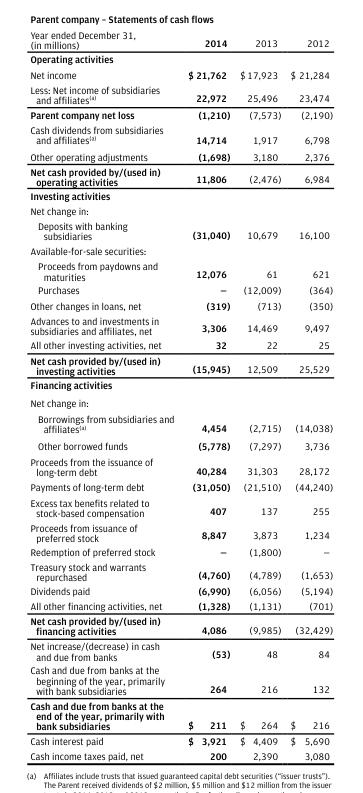table: (29, 28, 332, 761)
table column: (29, 28, 180, 761), (180, 28, 234, 761), (234, 28, 285, 761), (285, 28, 332, 761)
table column header: (29, 28, 332, 51)
table projected row header: (29, 393, 332, 410), (29, 377, 332, 393), (29, 51, 332, 66), (29, 202, 332, 217), (29, 243, 332, 258), (29, 188, 332, 202)
table row: (29, 662, 332, 697), (29, 697, 332, 732), (29, 121, 332, 147), (29, 217, 332, 243), (29, 410, 332, 436), (29, 453, 332, 479), (29, 81, 332, 106), (29, 163, 332, 188), (29, 312, 332, 337), (29, 352, 332, 377), (29, 494, 332, 519), (29, 519, 332, 544), (29, 558, 332, 583), (29, 613, 332, 638), (29, 258, 332, 282), (29, 638, 332, 662), (29, 28, 332, 51), (29, 393, 332, 410), (29, 436, 332, 453), (29, 147, 332, 163), (29, 377, 332, 393), (29, 597, 332, 613), (29, 732, 332, 748), (29, 51, 332, 66), (29, 66, 332, 81), (29, 106, 332, 121), (29, 202, 332, 217), (29, 243, 332, 258), (29, 282, 332, 297), (29, 297, 332, 312), (29, 337, 332, 352), (29, 479, 332, 494), (29, 188, 332, 202), (29, 544, 332, 558), (29, 583, 332, 597), (29, 748, 332, 761)
